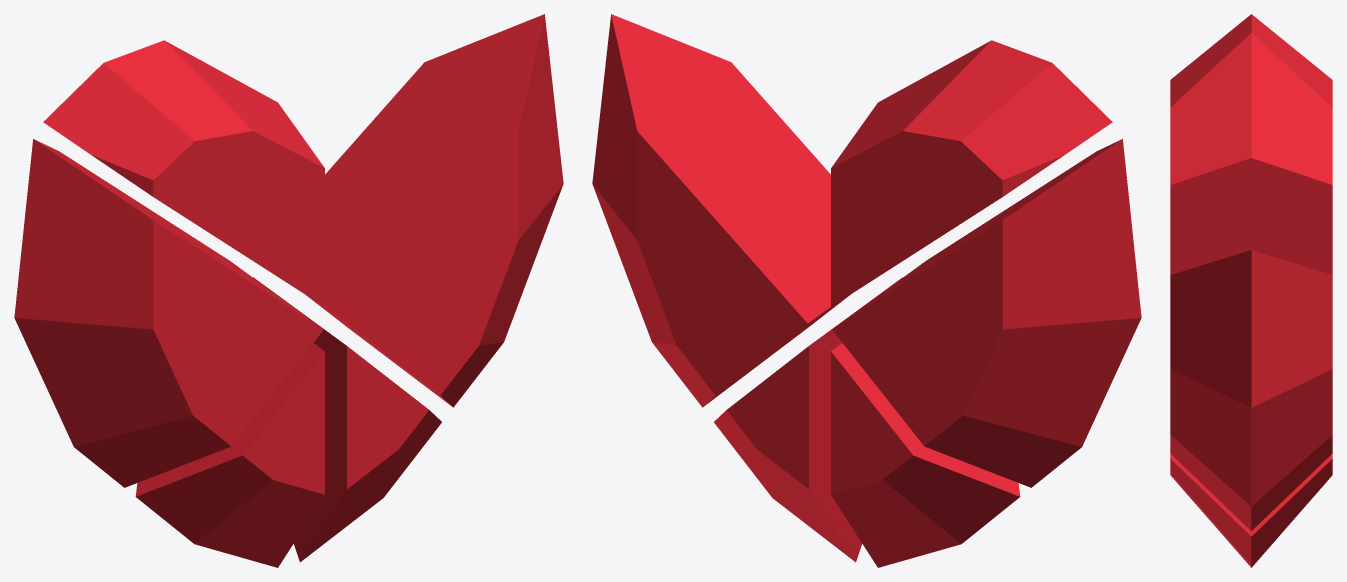
The model's file is EnemyHealth02.fbx.
3 renders of one model, left to right at view 1: azimuth 30°, elevation 25°; view 2: azimuth 150°, elevation 25°; view 3: azimuth 270°, elevation 25°, orthographic. The views are drawn at different scales.
Parts seen in each view (by area): view 1: EnemyHealth.002; view 2: EnemyHealth.002; view 3: EnemyHealth.002.
Part boxes in pixels (box(x1,y1,x2,y2)): EnemyHealth.002: box(14, 14, 563, 567); EnemyHealth.002: box(592, 14, 1141, 567); EnemyHealth.002: box(1170, 14, 1332, 567).
Bounding box in the file's own units: 269 × 260 × 79.87.
